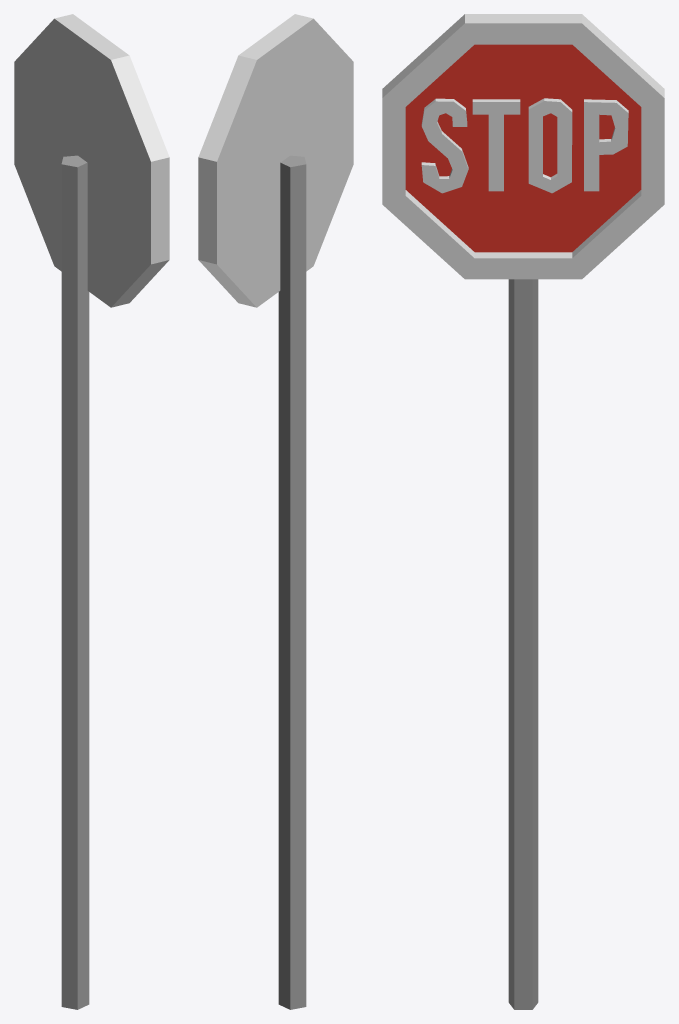
File: Sign_Stop.glb
The picture shows the model from 3 angles, left to right: view 1: azimuth 30°, elevation 25°; view 2: azimuth 150°, elevation 25°; view 3: azimuth 270°, elevation 25°; orthographic projection. The views are drawn at different scales.
Visible parts, largest first — view 1: Stop; view 2: Stop; view 3: Stop.
Boxes of the visible parts, x1,y1,x2,y2 form: Stop: [14, 14, 169, 1009]; Stop: [198, 14, 353, 1009]; Stop: [382, 14, 664, 1009].
Bounding box in the file's own units: 0.0233 × 0.5377 × 0.1384.
